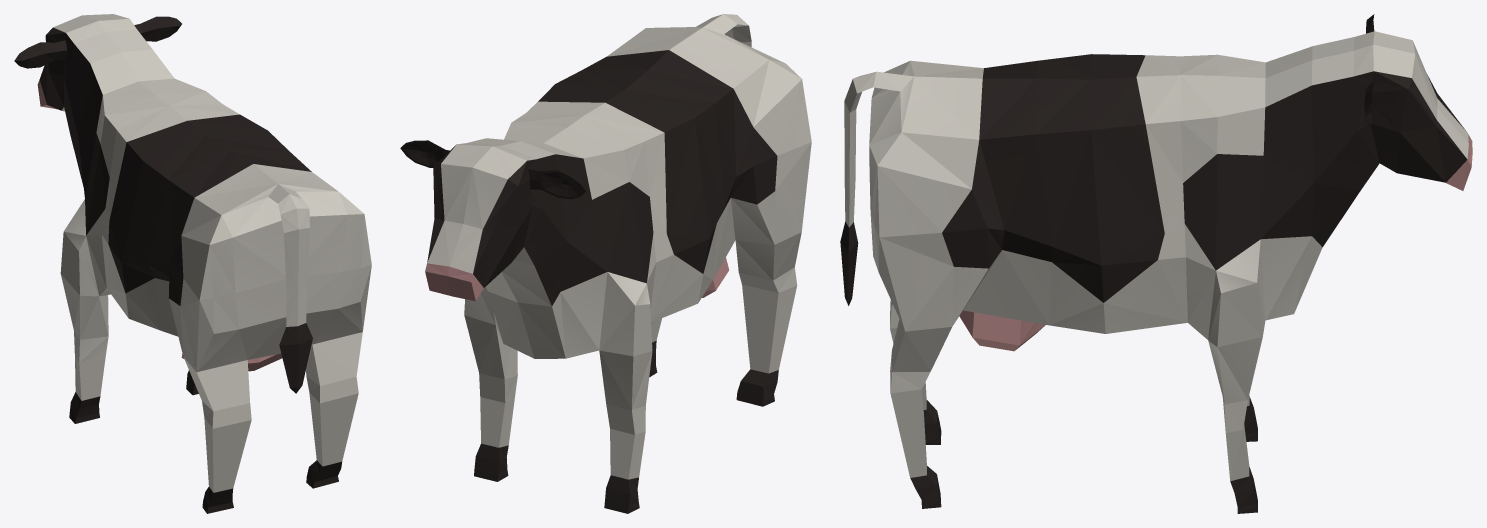
Rendered from animal_cow.glb.
The picture shows the model from 3 angles, left to right: view 1: azimuth 30°, elevation 25°; view 2: azimuth 150°, elevation 25°; view 3: azimuth 270°, elevation 25°; orthographic projection. The views are drawn at different scales.
Visible parts, largest first — view 1: Cow; view 2: Cow; view 3: Cow.
Boxes of the visible parts, x1,y1,x2,y2 form: Cow: [14, 14, 371, 513]; Cow: [400, 14, 811, 513]; Cow: [840, 14, 1472, 513].
Bounding box in the file's own units: 0.8 × 1.5 × 2.
